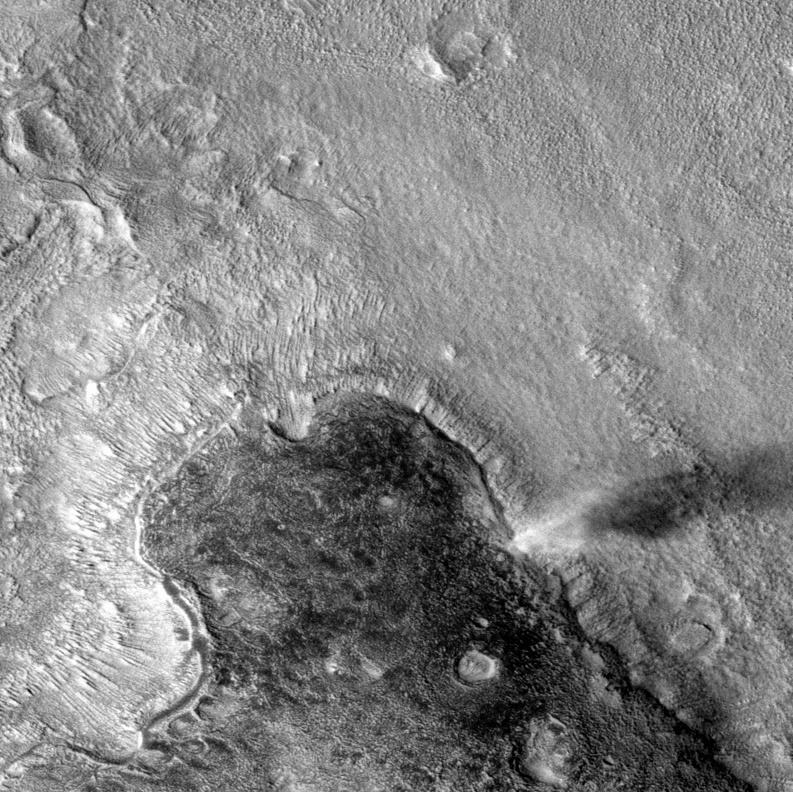dust_devil: (505, 441, 793, 559)
